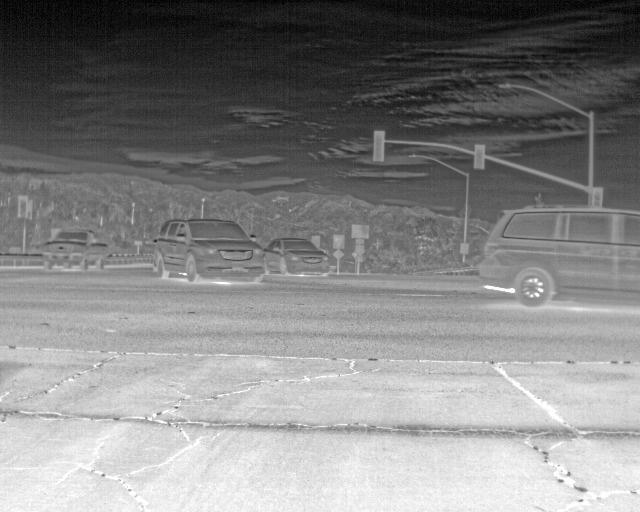car: (478, 204, 638, 305), (154, 218, 268, 282), (42, 228, 108, 271), (265, 237, 330, 275)
